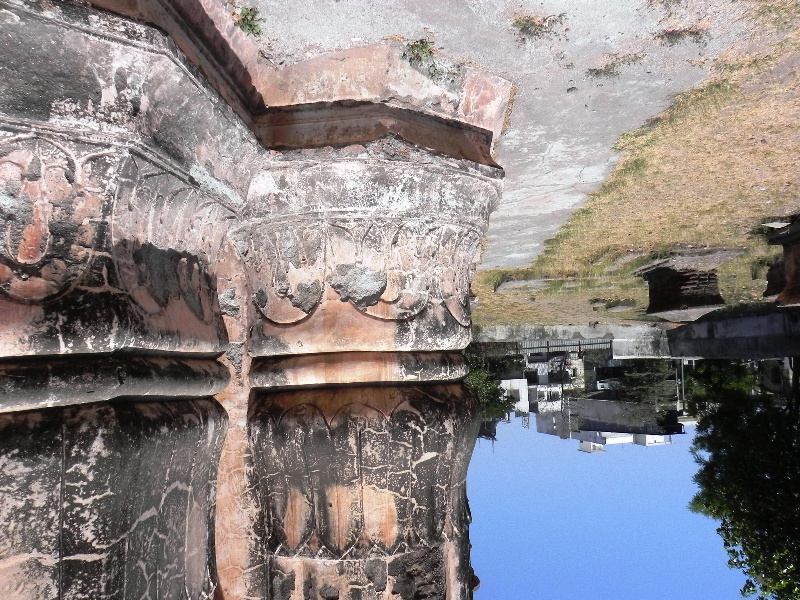Spalling: (131, 229, 210, 313), (292, 258, 390, 322), (366, 126, 416, 162)
